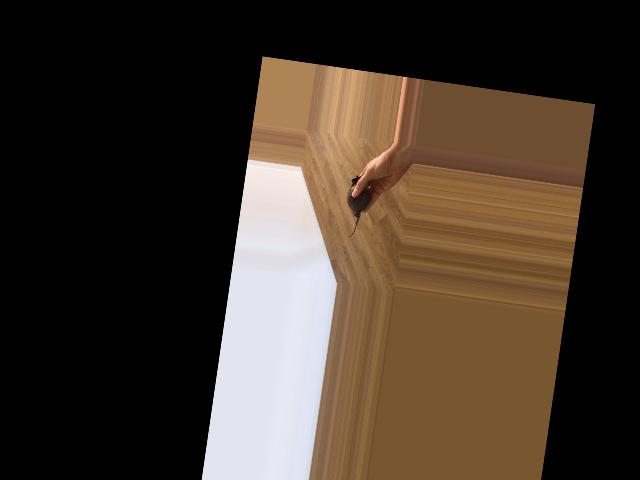beet: (341, 174, 372, 239)
